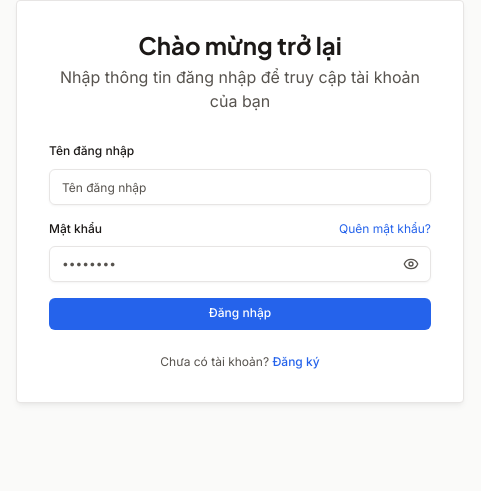
Scenario: LoginForm — backend 503 AUTH_STATE_UNAVAILABLE › shows the backend's detail (the real body)
Type "officer1" into the field labelled "Tên đăng nhập" at (240, 187), box [49, 169, 431, 205]
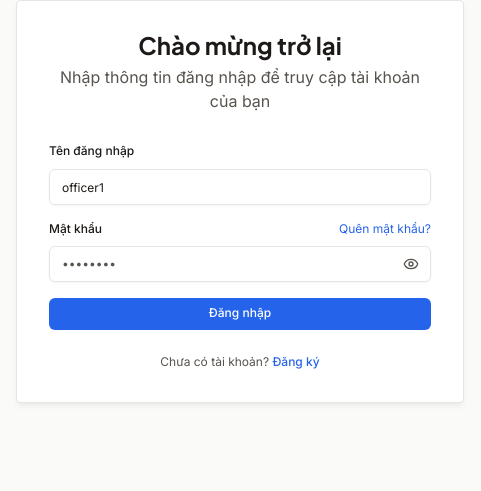
Type "not-the-password" into the password field with placeholder "••••••••" at (240, 264), box [49, 246, 431, 282]
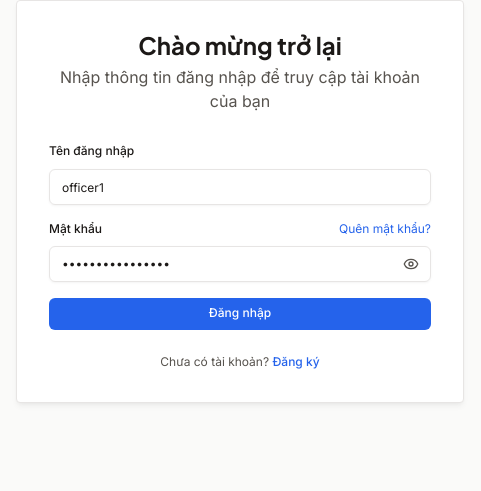
Click the button "Đăng nhập" at (240, 314), box [49, 298, 431, 330]
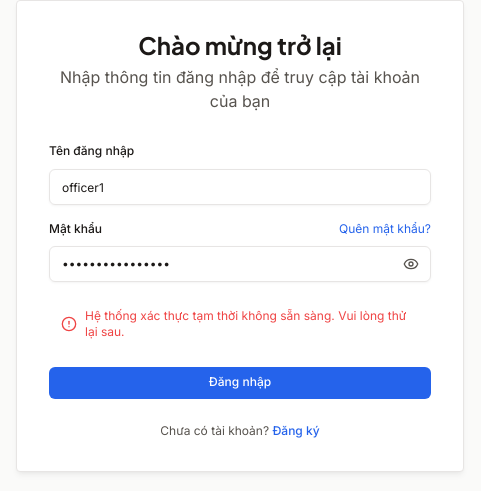
Expected: the message reads "Hệ thống xác thực tạm thời không sẵn sàng. Vui lòng thử lại sau.", [85, 308, 406, 339]
